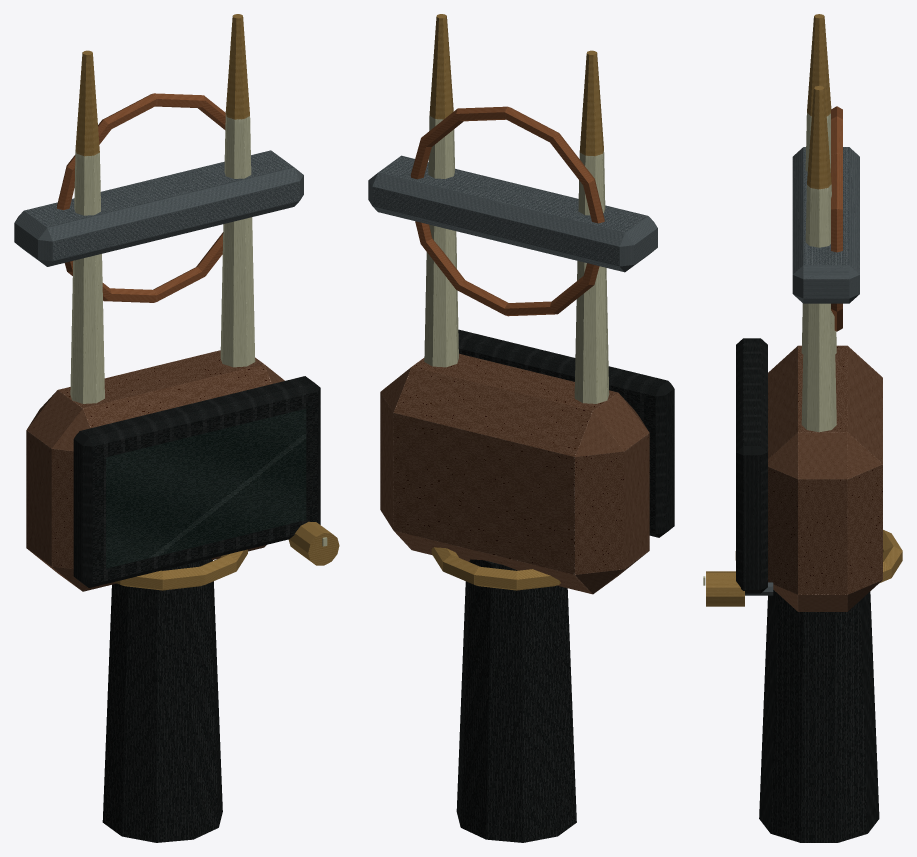
File: blender_ward_stability_probe_3.glb
The picture shows the model from 3 angles, left to right: view 1: azimuth 30°, elevation 25°; view 2: azimuth 150°, elevation 25°; view 3: azimuth 270°, elevation 25°; orthographic projection. The views are drawn at different scales.
Parts seen in each view (by area): view 1: blender_ward_stability_probe_3; view 2: blender_ward_stability_probe_3; view 3: blender_ward_stability_probe_3.
Boxes of the visible parts, <box> form: blender_ward_stability_probe_3: <box>14,14,339,842</box>; blender_ward_stability_probe_3: <box>368,14,674,842</box>; blender_ward_stability_probe_3: <box>703,14,902,842</box>.
Bounding box in the file's own units: 0.085 × 0.239 × 0.0564.
Materials: 7 (7 with a texture image).
